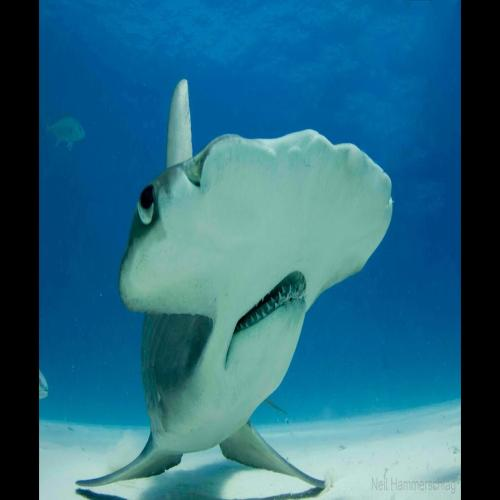shark-endangered: (117, 126, 395, 492)
